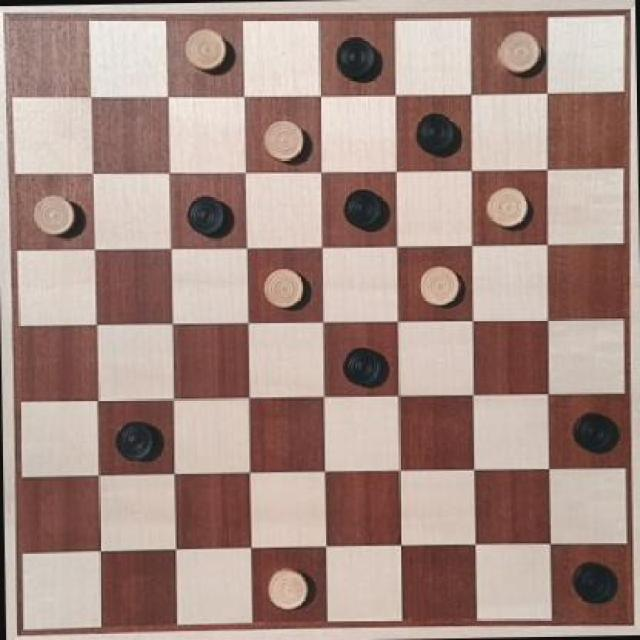BOARD: (18, 15, 640, 631)
black: (405, 108, 468, 164), (334, 340, 395, 395), (564, 404, 622, 459), (563, 555, 622, 608), (330, 29, 380, 85), (112, 414, 160, 472), (180, 190, 233, 238), (338, 185, 387, 236)
white: (259, 554, 313, 621), (173, 20, 232, 81), (407, 255, 465, 314), (31, 186, 82, 247), (258, 260, 310, 316), (490, 27, 544, 80), (258, 112, 304, 161), (482, 186, 530, 232)
